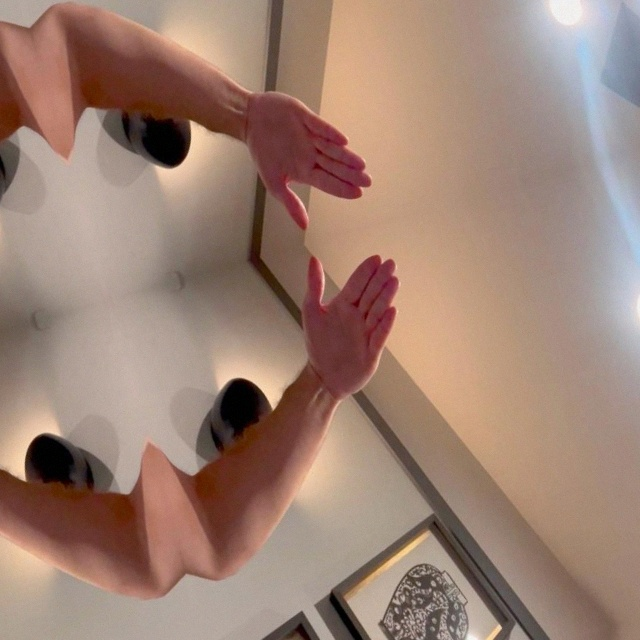Paper: (229, 64, 384, 243)
